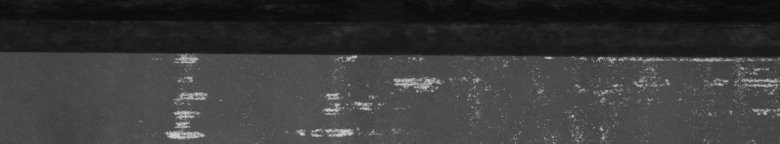kb: (4, 21, 776, 136)
